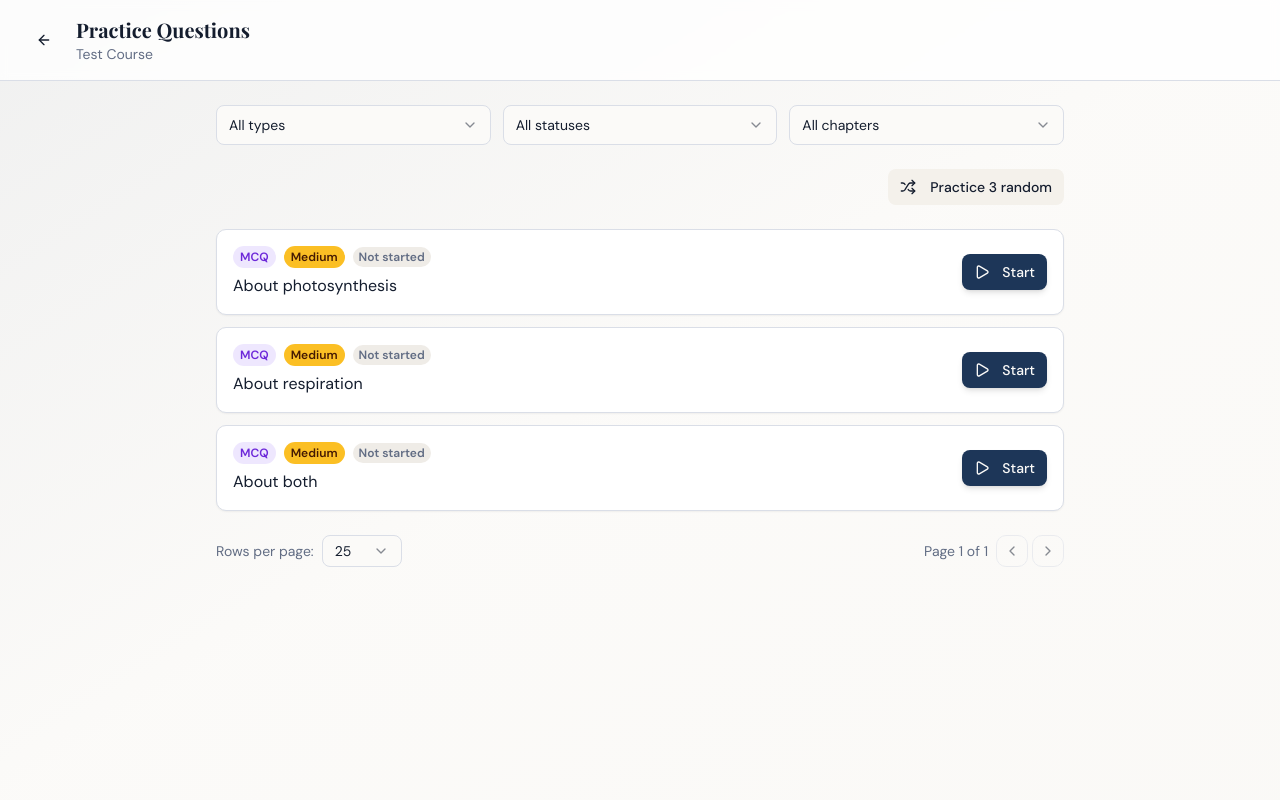
Scenario: UnifiedPracticeQuestionsList › filters by chapter when one is selected (#774)
The width and height of the screenshot is (1280, 800).
Click the dropdown named "Filter by chapter": (841, 125) [789, 105, 1064, 145]
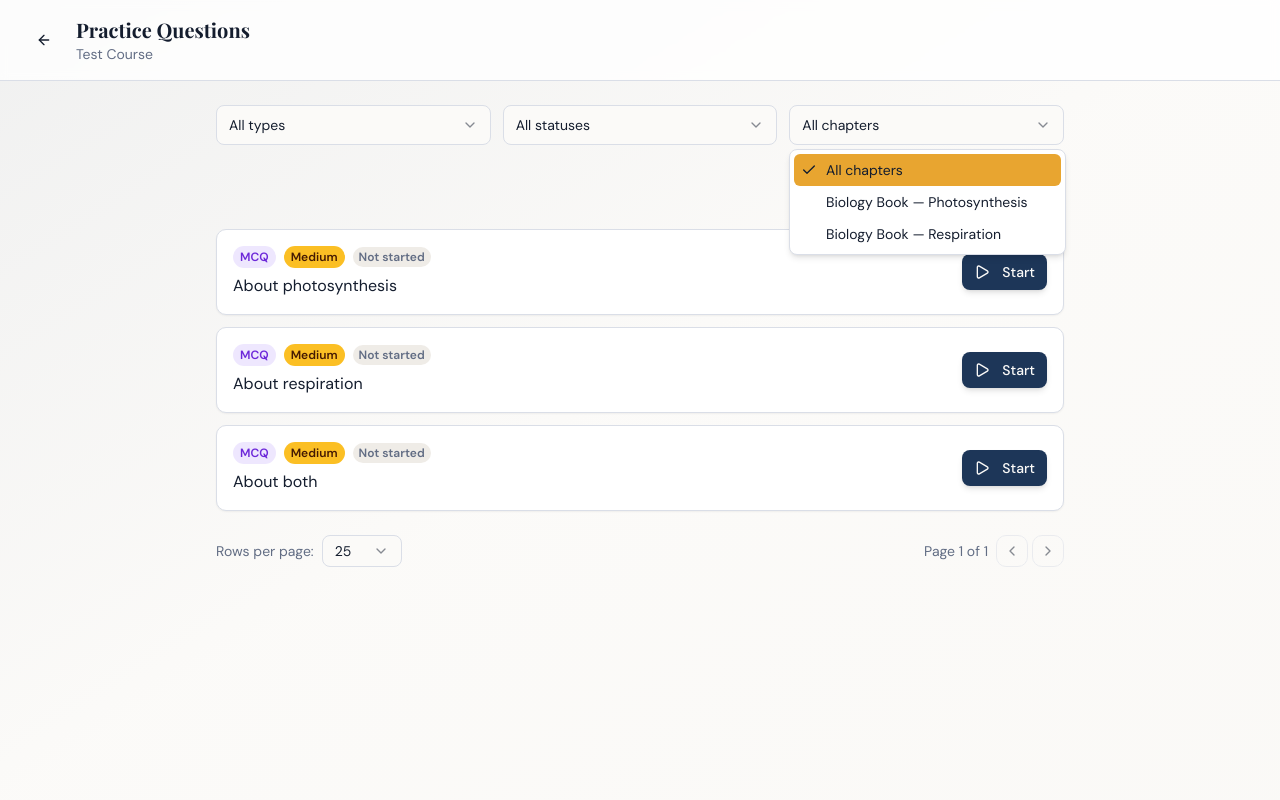
Click the option "Biology Book — Photosynthesis": (927, 202) [826, 193, 1028, 211]
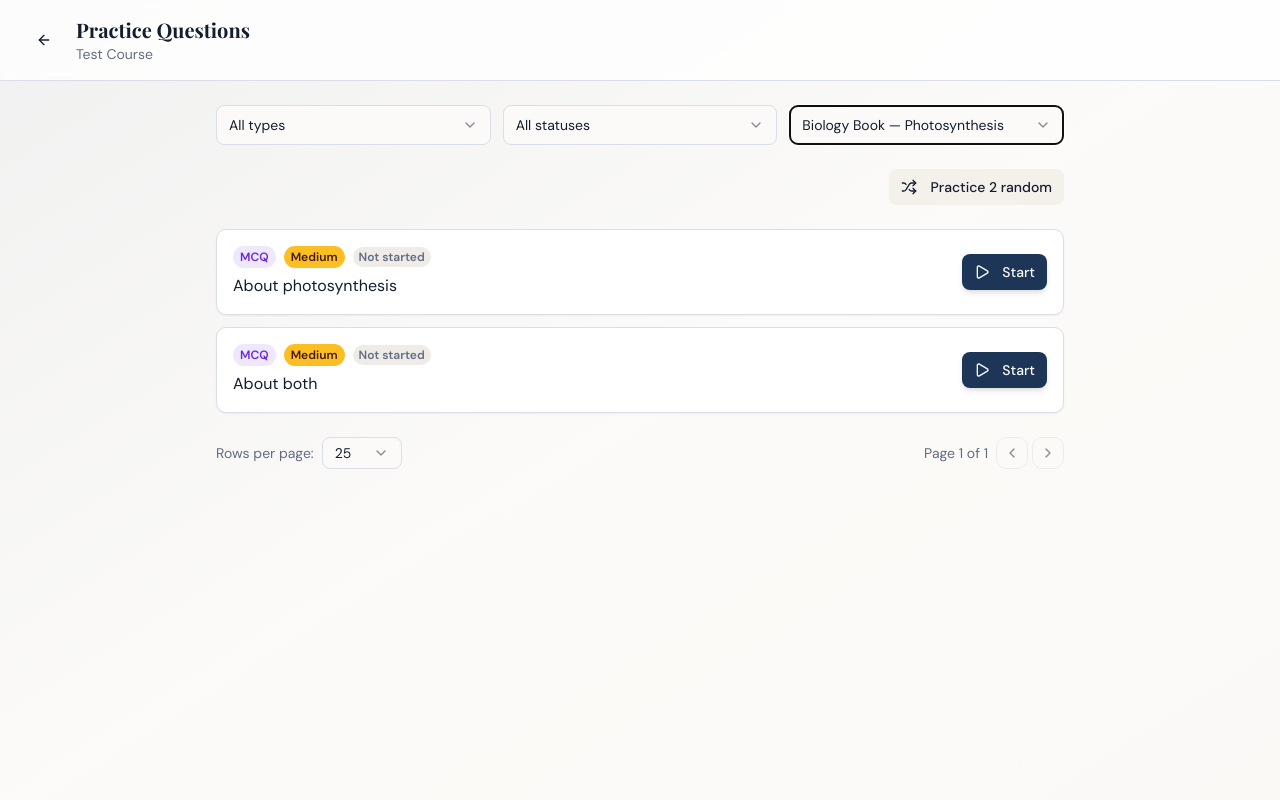
Check: the text "About photosynthesis" is shown, box [233, 275, 397, 296]
Check: the number of list items is 2, box [216, 229, 1064, 315]; [216, 327, 1064, 413]
Check: the text "About respiration" is gone
